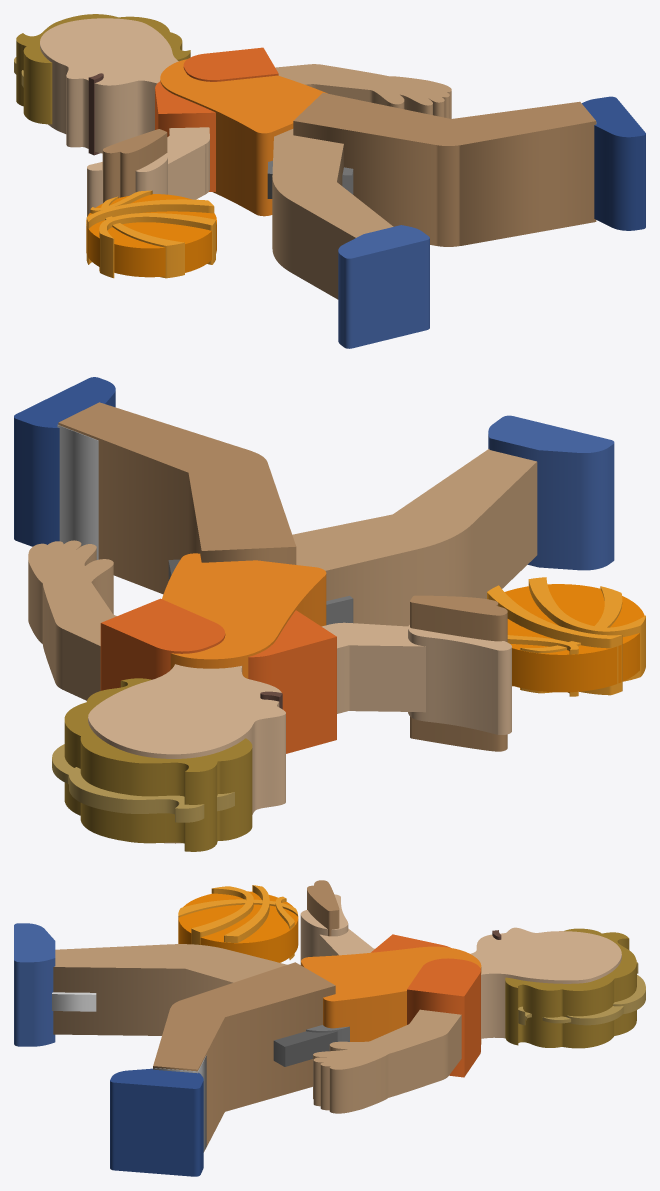
File: emoji_u26f9_1f3fc.glb
3 renders of one model, top to bottom at view 1: azimuth 30°, elevation 25°; view 2: azimuth 150°, elevation 25°; view 3: azimuth 270°, elevation 25°, orthographic. The views are drawn at different scales.
Parts seen in each view (by area): view 1: emoji_u26f9_1f3fc; view 2: emoji_u26f9_1f3fc; view 3: emoji_u26f9_1f3fc.
Part boxes in pixels (x1,y1,x2,y2): emoji_u26f9_1f3fc: [14, 14, 645, 348]; emoji_u26f9_1f3fc: [14, 377, 645, 851]; emoji_u26f9_1f3fc: [14, 880, 645, 1176].
Size of the model in its own units: 0.029 by 0.0058 by 0.0339.
